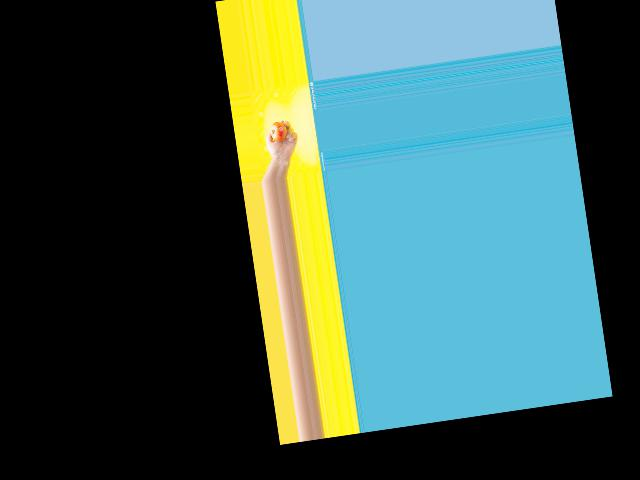tomato: (269, 121, 288, 142)
